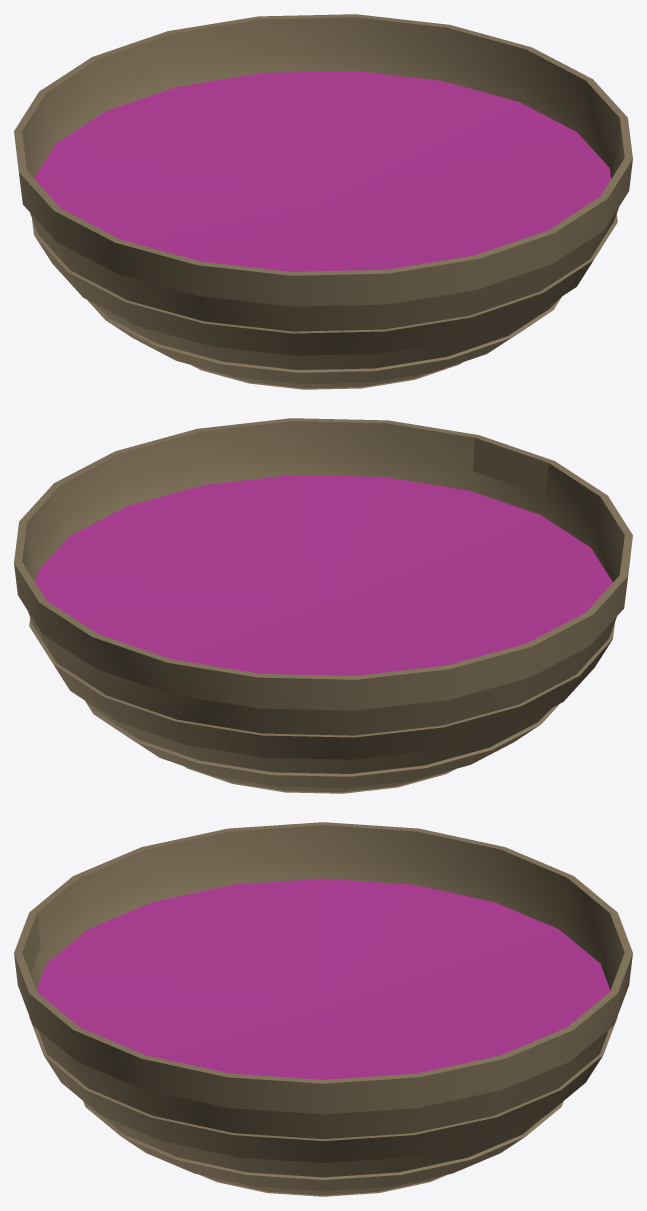
Rendered from BeetrootSoup.fbx.
3 views of the same model, one above another, from view 1: azimuth 30°, elevation 25°; view 2: azimuth 150°, elevation 25°; view 3: azimuth 270°, elevation 25° (orthographic).
Visible parts, largest first — view 1: pSphere1; view 2: pSphere1; view 3: pSphere1.
Part boxes in pixels (<box>): pSphere1: <box>14,14,632,389</box>; pSphere1: <box>14,418,632,793</box>; pSphere1: <box>14,822,632,1196</box>.
Size of the model in its own units: 2 by 0.7373 by 2.
